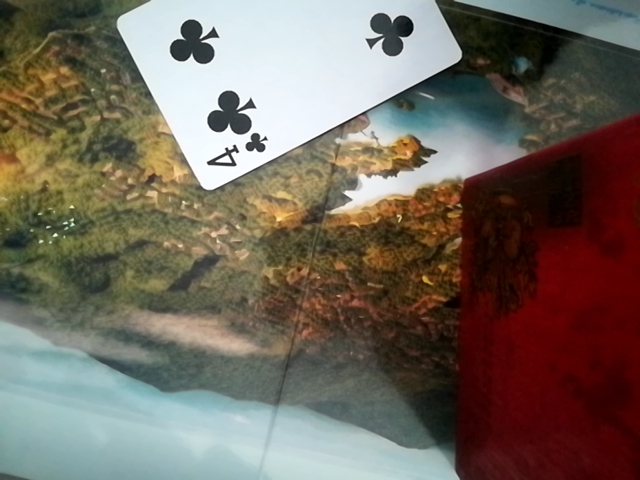mh 4: (104, 0, 471, 190)
